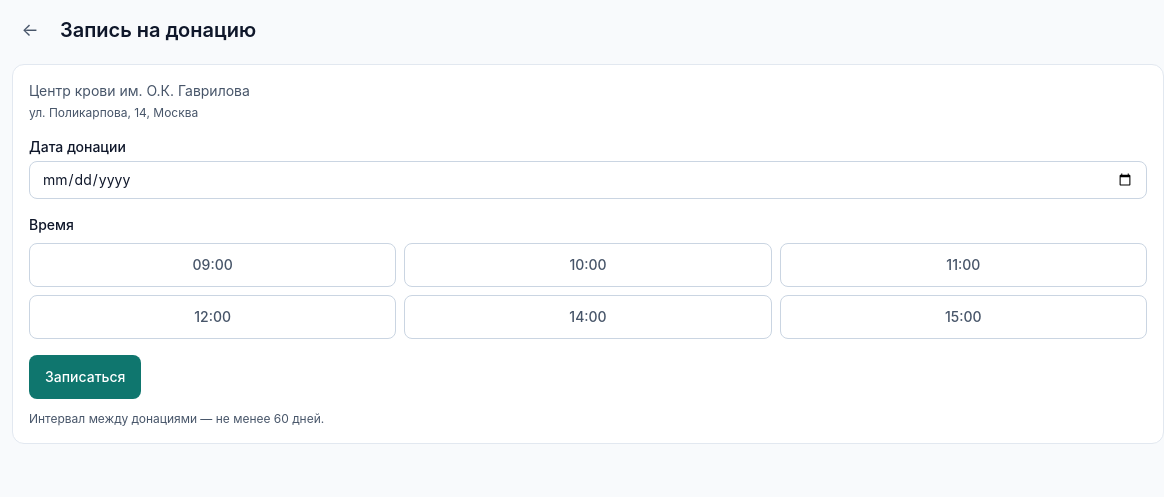
Scenario: BookingPage — валидация формы › требует выбрать дату и время
Click the button "Записаться" at (85, 377), box x1=29 y1=355 x2=142 y2=399
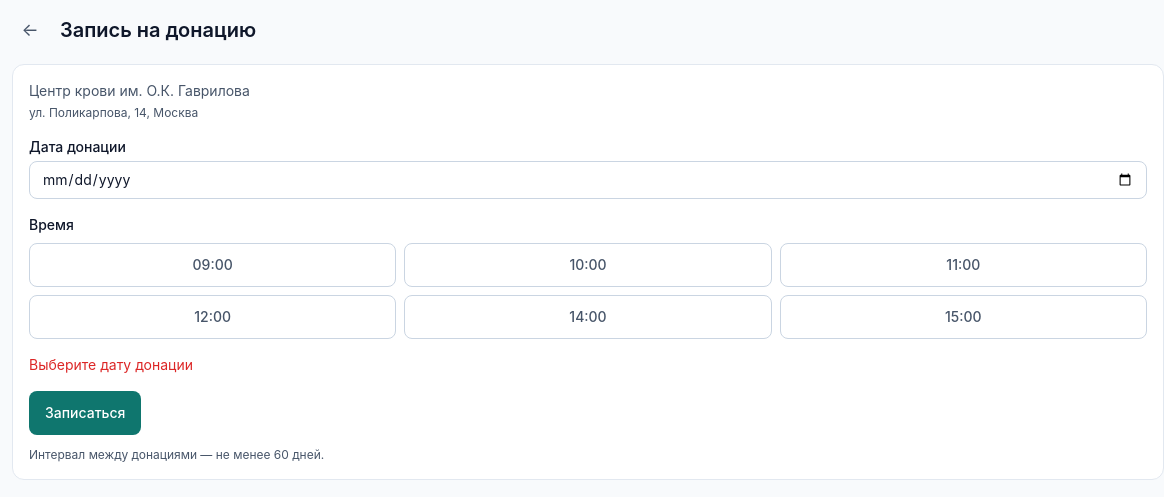
expect the text "Выберите дату донации" is shown: met, box x1=29 y1=356 x2=193 y2=373
